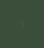seven: (19, 20, 23, 27)
